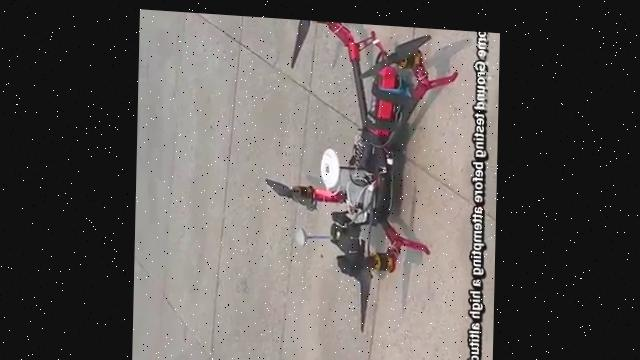drone: (259, 14, 463, 332)
